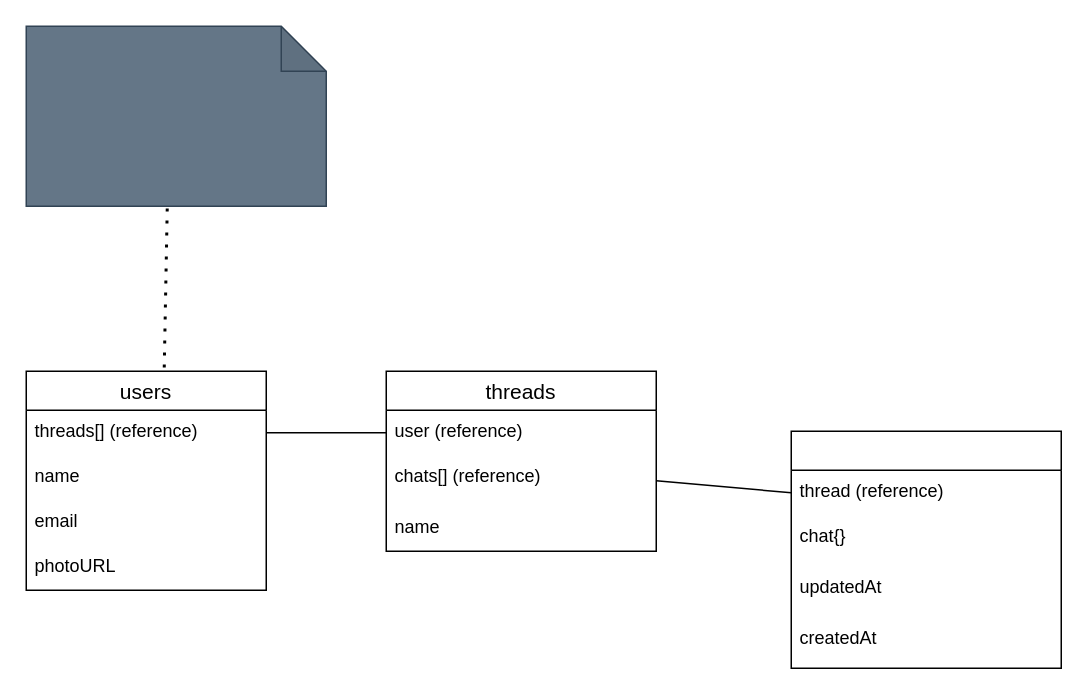
Some shapes in this 1088 by 699 pixel diagram are drawn without their labels. Each missing label, with the box of its shape:
chats: (790, 430, 1061, 668)
ドキュメントID = uid, threadId, chatId: (25, 25, 326, 206)
